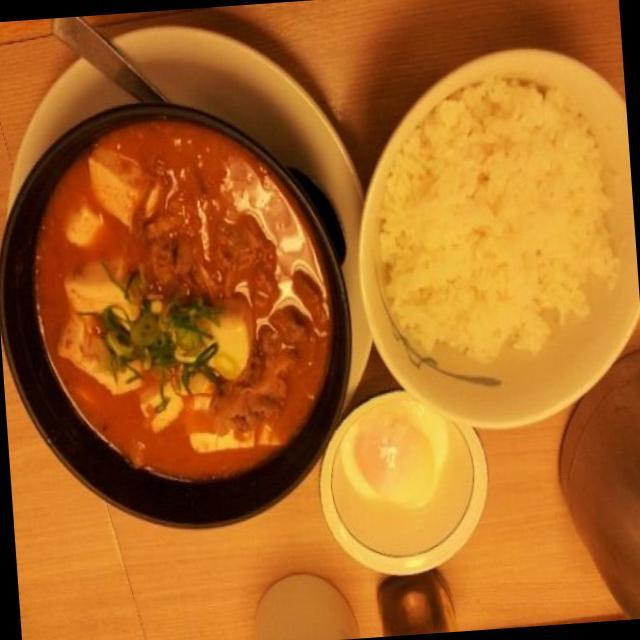Rice: (368, 76, 632, 385)
